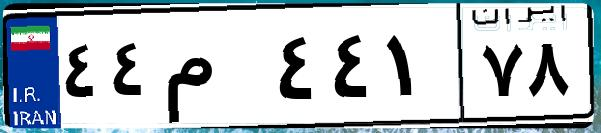1: (385, 28, 445, 110)
4: (270, 28, 330, 110), (330, 28, 385, 110), (57, 26, 110, 100), (110, 28, 158, 98)
7: (475, 38, 525, 113)
8: (525, 38, 570, 115)
م: (158, 20, 270, 120)
